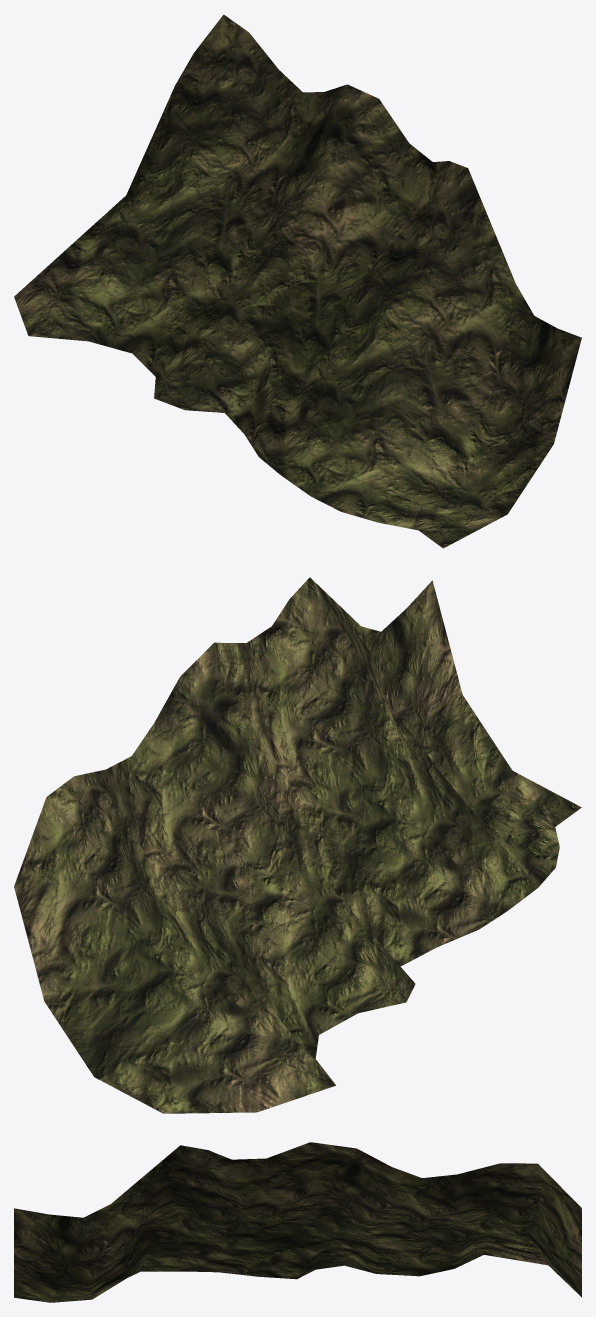
The model's file is shit_pile.DAE.
3 renders of one model, top to bottom at view 1: azimuth 30°, elevation 25°; view 2: azimuth 150°, elevation 25°; view 3: azimuth 270°, elevation 25°, orthographic. The views are drawn at different scales.
Visible parts, largest first — view 1: Box001; view 2: Box001; view 3: Box001.
Part boxes in pixels (box(x1,y1,x2,y2)): Box001: box(14, 14, 581, 548); Box001: box(14, 577, 581, 1113); Box001: box(14, 1142, 581, 1302).
Bounding box in the file's own units: 1.38 × 4 × 1.52.
